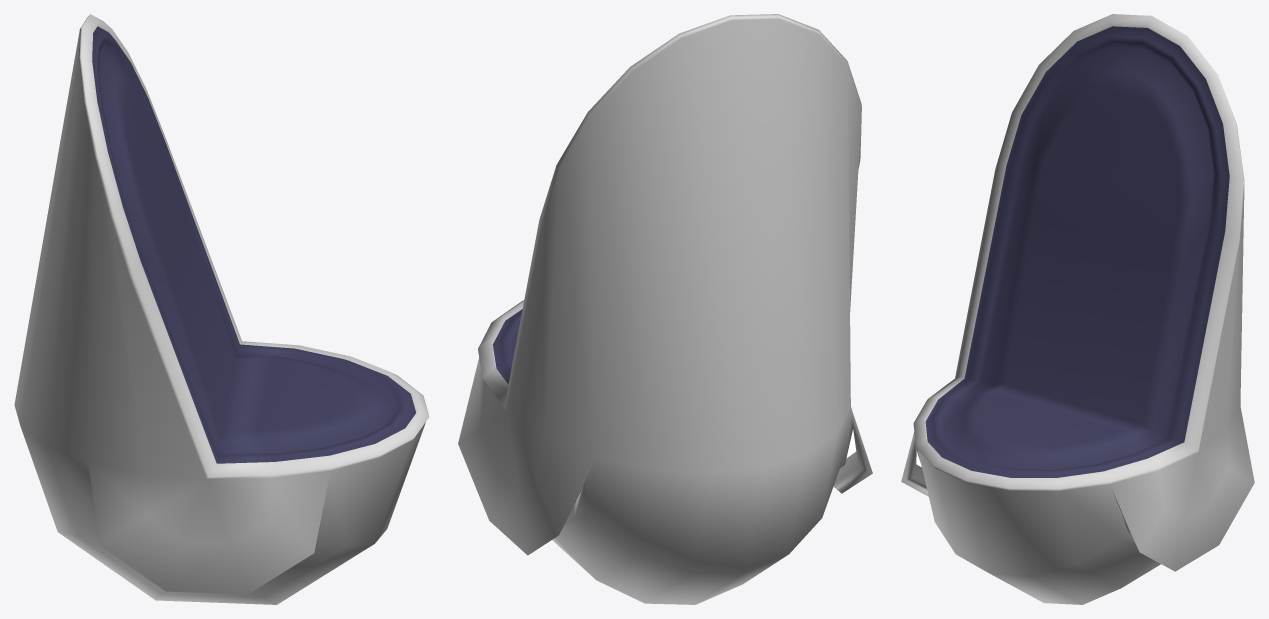
Rendered from Bridge_Chair_04_Mesh.fbx.
3 renders of one model, left to right at view 1: azimuth 30°, elevation 25°; view 2: azimuth 150°, elevation 25°; view 3: azimuth 270°, elevation 25°, orthographic. The views are drawn at different scales.
Parts seen in each view (by area): view 1: Bridge_Chair_04_Mesh; view 2: Bridge_Chair_04_Mesh; view 3: Bridge_Chair_04_Mesh.
Part boxes in pixels (box(x1,y1,x2,y2)): Bridge_Chair_04_Mesh: box(14, 14, 429, 604); Bridge_Chair_04_Mesh: box(458, 14, 872, 604); Bridge_Chair_04_Mesh: box(901, 14, 1254, 604).
Bounding box in the file's own units: 269 × 434 × 266.
